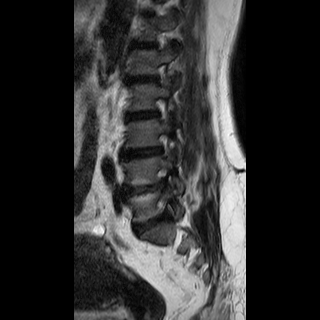LFS0: (150, 92, 174, 126)
